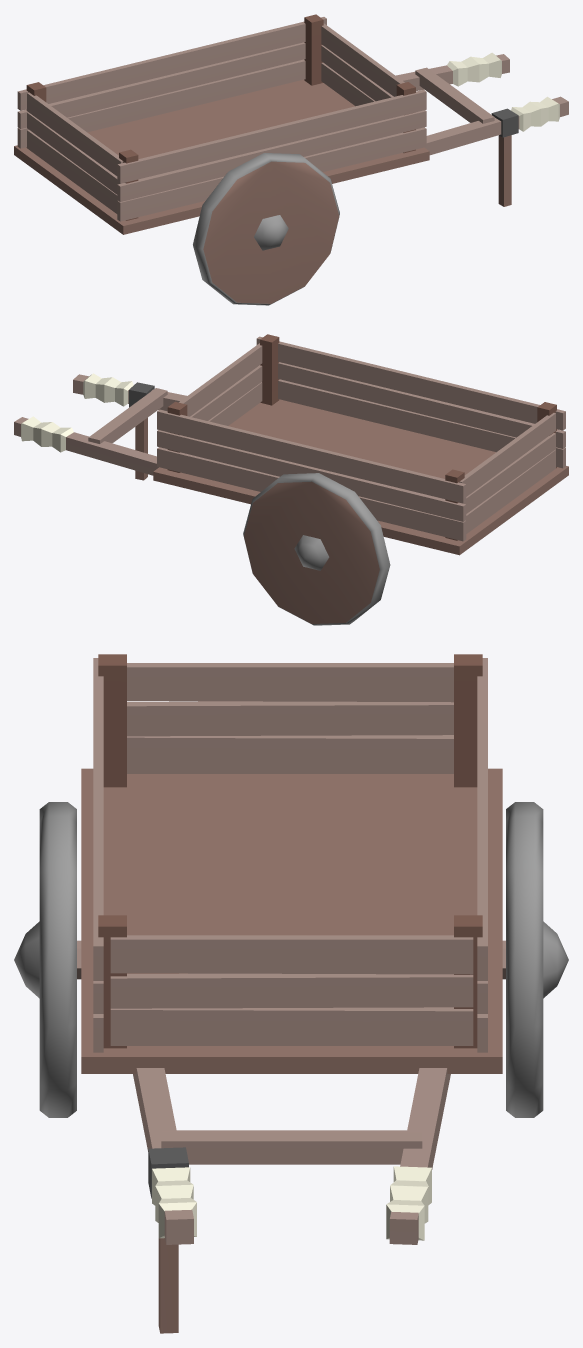
The model's file is cart_001.glb.
3 views of the same model, one above another, from view 1: azimuth 30°, elevation 25°; view 2: azimuth 150°, elevation 25°; view 3: azimuth 270°, elevation 25° (orthographic). The views are drawn at different scales.
Visible parts, largest first — view 1: cart_001; view 2: cart_001; view 3: cart_001.
Boxes of the visible parts, x1,y1,x2,y2 form: cart_001: (14, 14, 568, 305); cart_001: (14, 334, 568, 625); cart_001: (14, 654, 568, 1333).
Size of the model in its own units: 3.35 by 1.16 by 1.78.
Materials: 1 (1 with a texture image).
